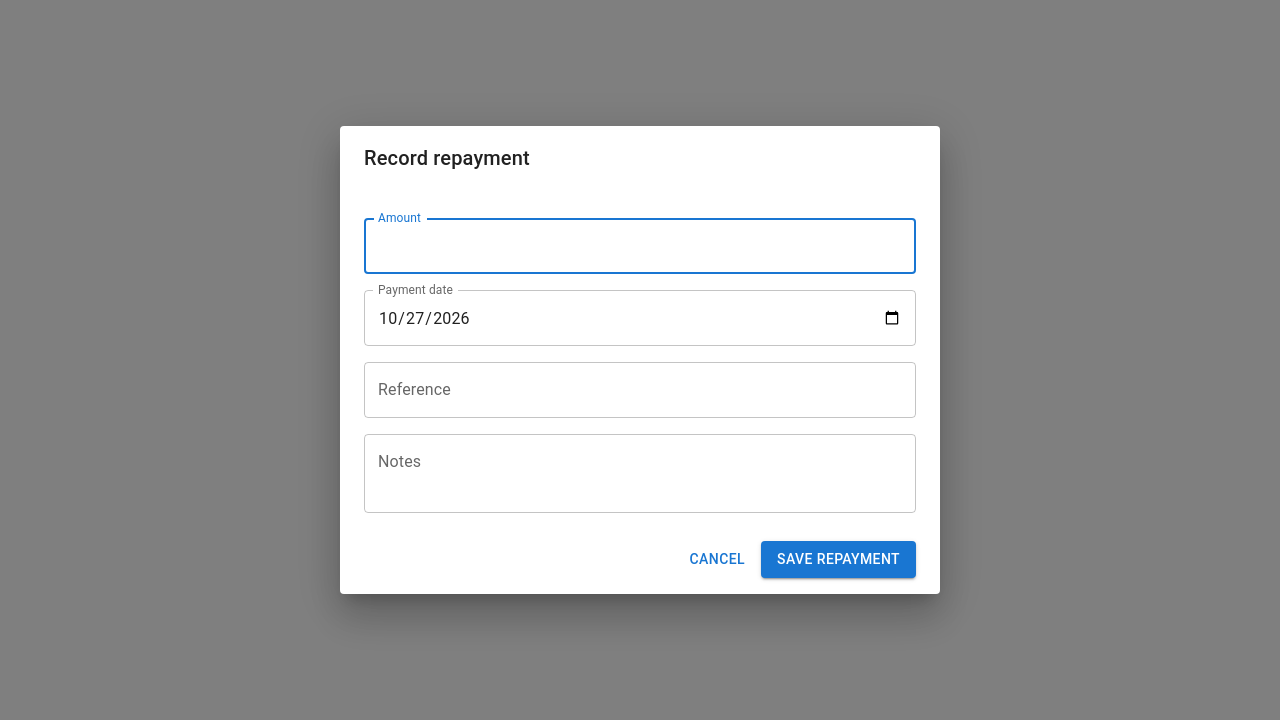
RepaymentDialog validation › does not submit a missing amount, and shows why
The image size is (1280, 720).
Click the button "Save repayment" at [838, 560], box left=761, top=541, right=916, bottom=578
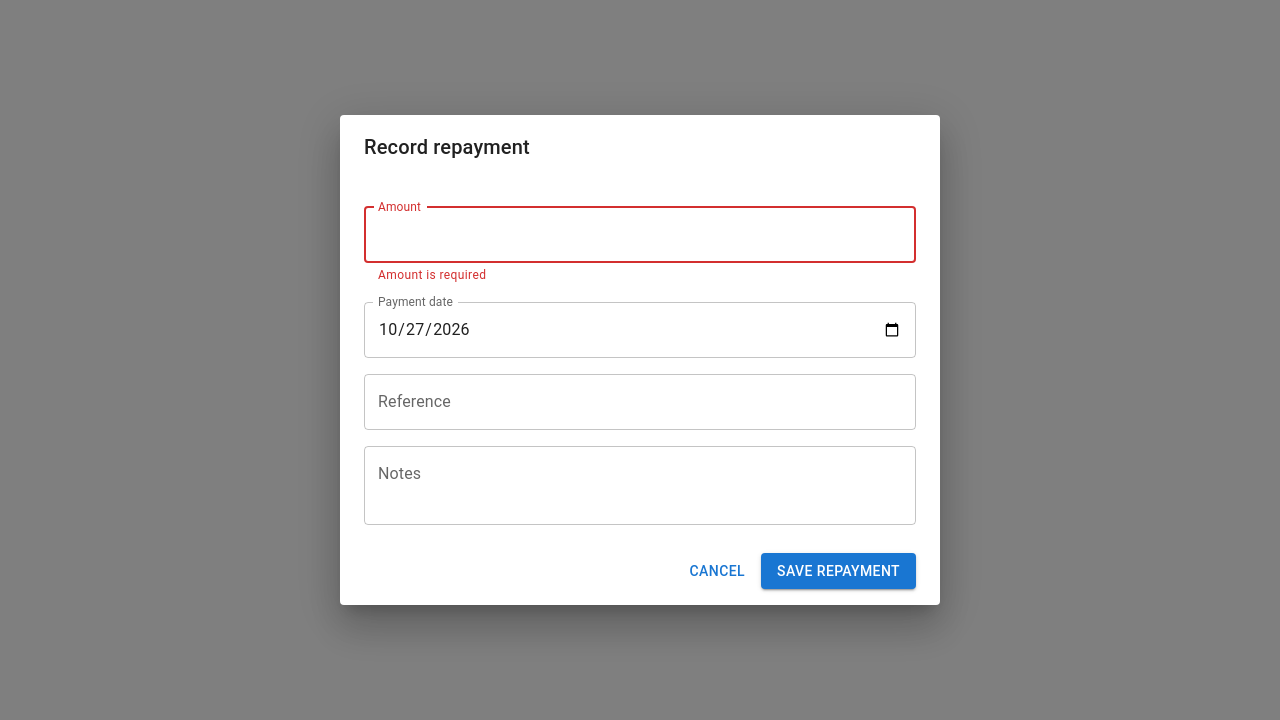
Now the text "Amount is required" is shown, box left=378, top=268, right=486, bottom=282
